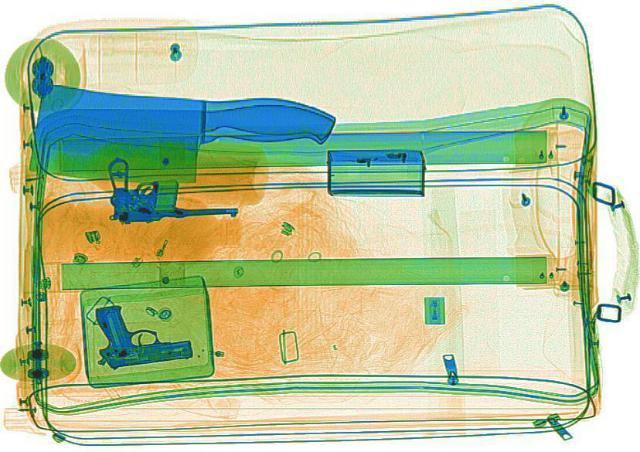Gun: (102, 153, 238, 219), (80, 290, 192, 369)
Knife: (26, 79, 352, 194), (25, 71, 342, 176)
